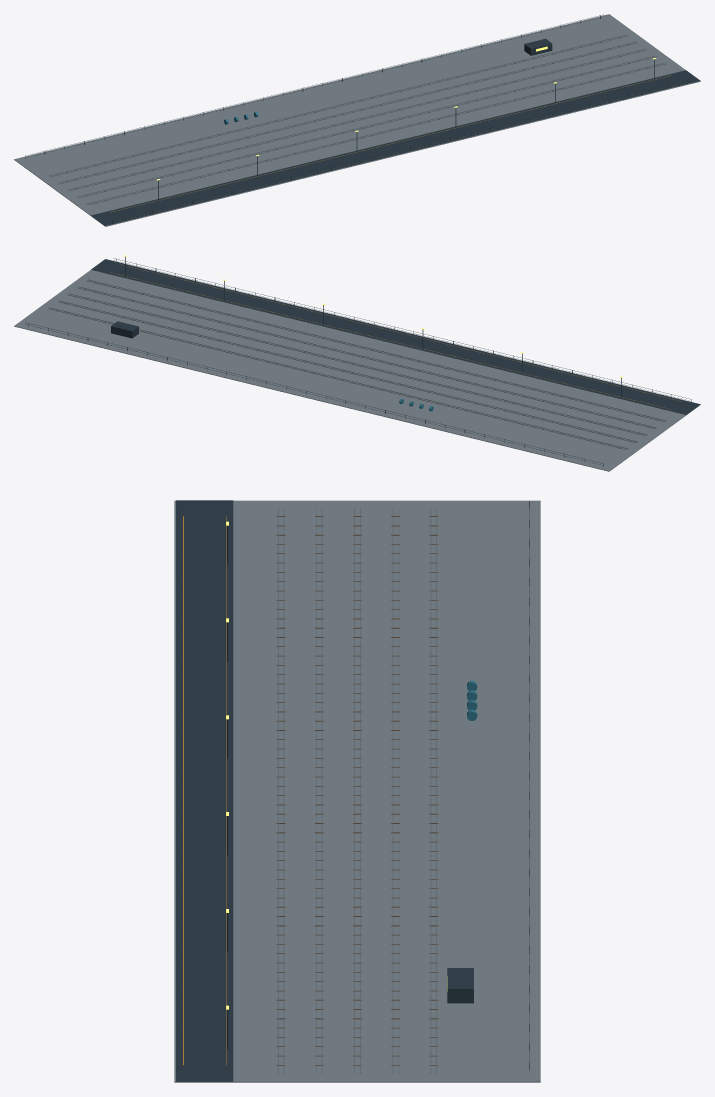
File: yard-core-medium.glb
The picture shows the model from 3 angles, top to bottom: view 1: azimuth 30°, elevation 25°; view 2: azimuth 150°, elevation 25°; view 3: azimuth 270°, elevation 25°; orthographic projection. The views are drawn at different scales.
Parts seen in each view (by area): view 1: concrete_apron, service_road, rail.003, rail.004, rail.009, rail.005, rail.006, rail.008, rail.002, rail.007, rail.001, rail (+4 smaller); view 2: concrete_apron, service_road, rail.004, rail, rail.003, rail.001, rail.005, rail.007, rail.002, rail.006, rail.008, rail.009 (+5 smaller); view 3: concrete_apron, service_road, rail.001, rail.003, rail.006, rail.008, fence_top, control_room.
Part boxes in pixels (x1,y1,x2,y2): concrete_apron: [14, 14, 700, 226]; service_road: [91, 70, 700, 225]; rail.003: [77, 55, 655, 196]; rail.004: [69, 49, 647, 190]; rail.009: [48, 34, 626, 176]; rail.005: [67, 48, 645, 190]; rail.006: [59, 42, 637, 184]; rail.008: [50, 35, 628, 176]; rail.002: [78, 56, 656, 198]; rail.007: [58, 41, 636, 182]; rail.001: [86, 62, 664, 204]; rail: [88, 63, 666, 204]; concrete_apron: [14, 259, 700, 471]; service_road: [91, 259, 700, 414]; rail.004: [68, 293, 647, 434]; rail: [88, 279, 666, 420]; rail.003: [77, 287, 655, 428]; rail.001: [86, 280, 664, 421]; rail.005: [67, 294, 645, 435]; rail.007: [58, 301, 636, 442]; rail.002: [78, 286, 656, 427]; rail.006: [59, 300, 637, 441]; rail.008: [49, 307, 628, 448]; rail.009: [48, 308, 626, 449]; concrete_apron: [174, 500, 540, 1082]; service_road: [176, 500, 233, 1081]; rail.001: [283, 508, 284, 1072]; rail.003: [321, 508, 322, 1072]; rail.006: [392, 508, 393, 1072]; rail.008: [430, 508, 431, 1072]; fence_top: [177, 502, 178, 1066]; control_room: [447, 968, 473, 1003].
Size of the model in its own units: 360 by 12.48 by 96.
